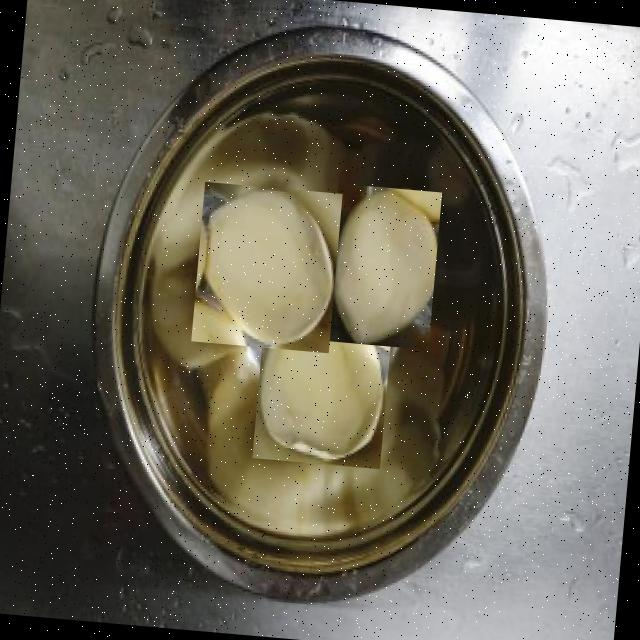Potato: (191, 182, 342, 352), (252, 306, 392, 469), (324, 183, 442, 350)
